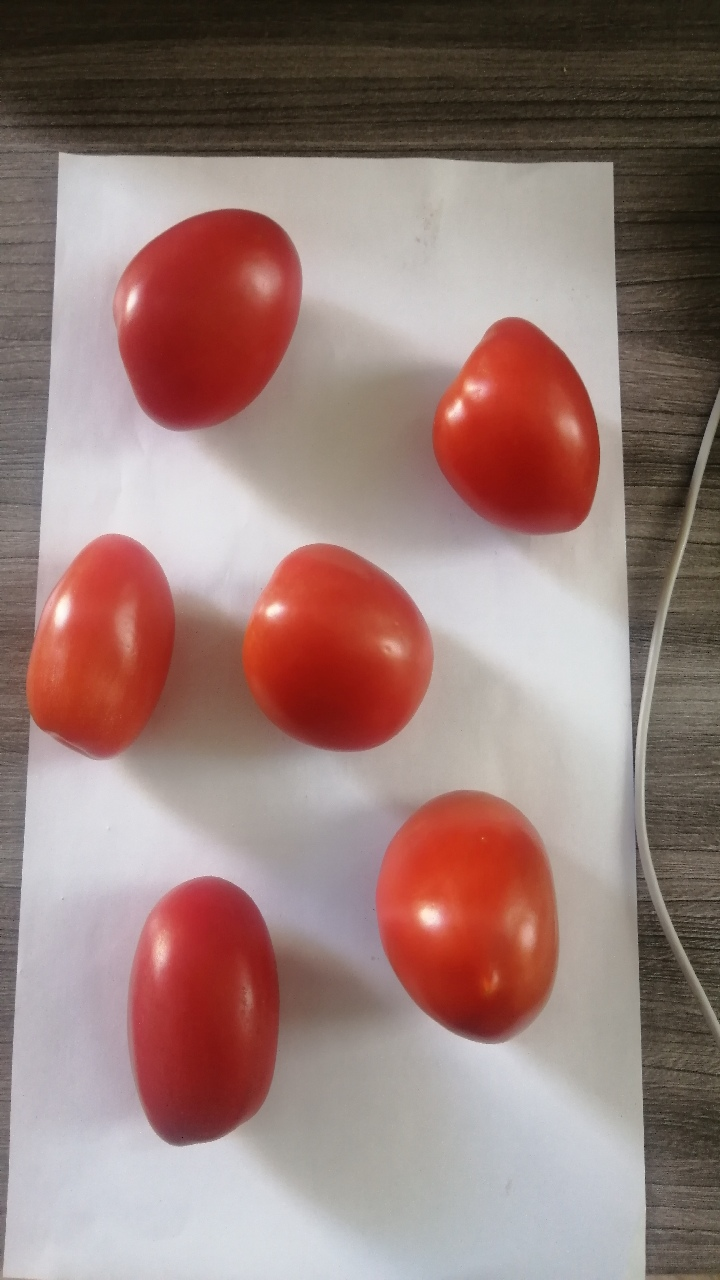tomateRojo: (344, 768, 586, 1063), (89, 866, 314, 1162), (217, 508, 449, 777), (88, 192, 321, 459), (417, 299, 618, 560), (21, 509, 184, 786)
